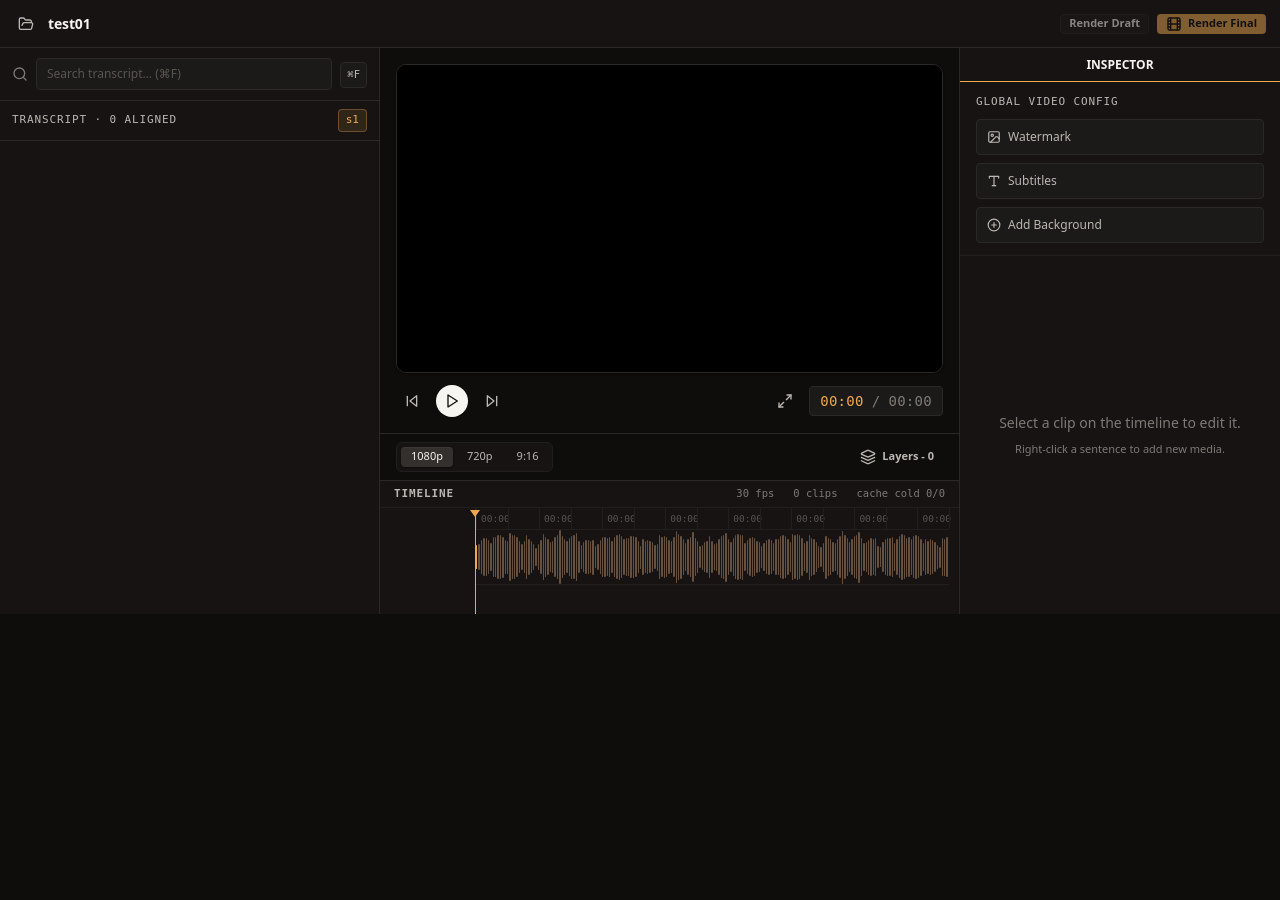
Test case: Cancel in subtitles modal closes without mutation
Expected: the heading "test01" is shown, top-left (48, 13), bottom-right (91, 34)
Click the button "Subtitles" at (1032, 180), box top-left (976, 162), bottom-right (1264, 198)
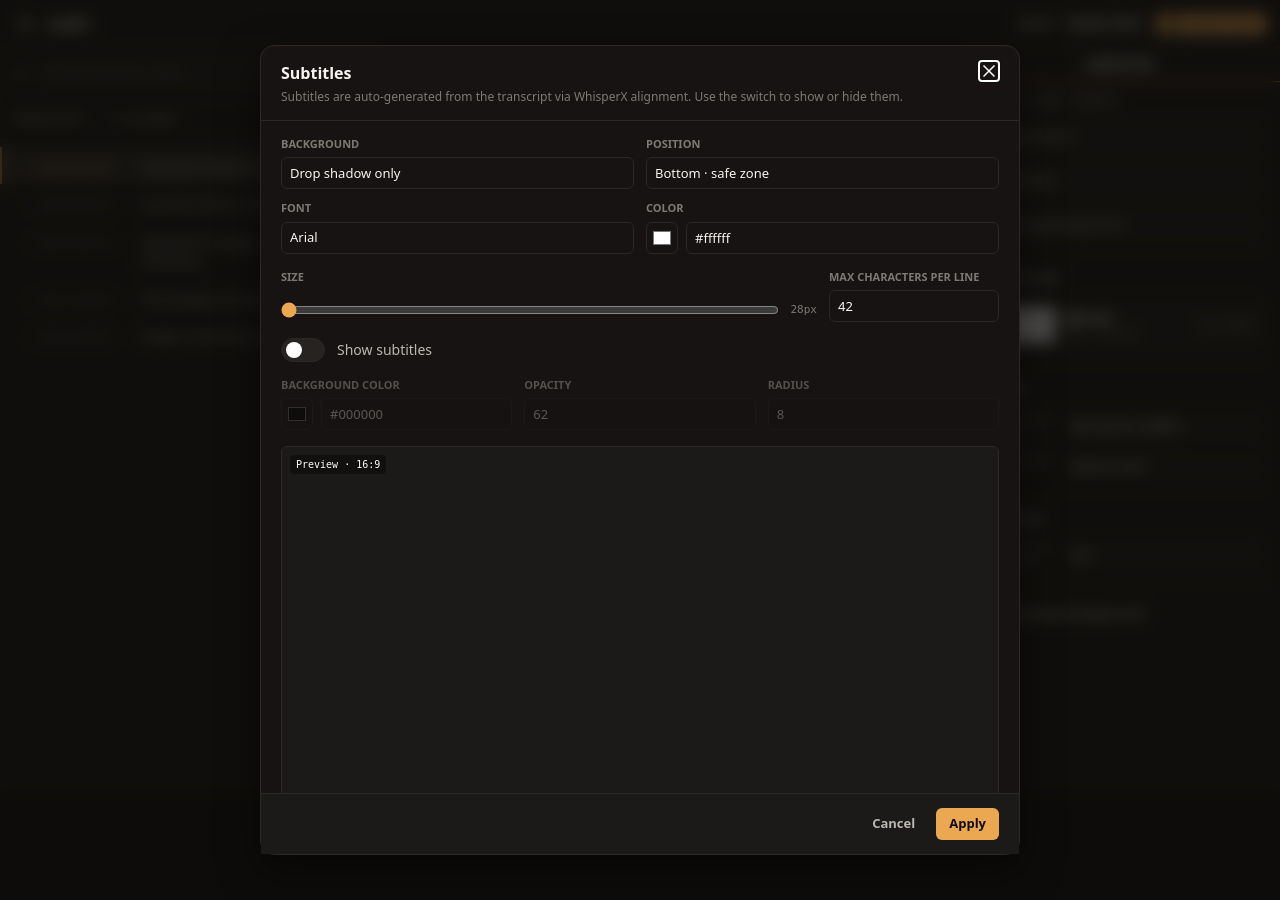
Select "SF Pro" in the dropdown labelled "Font" at (458, 238), box top-left (281, 222), bottom-right (634, 254)
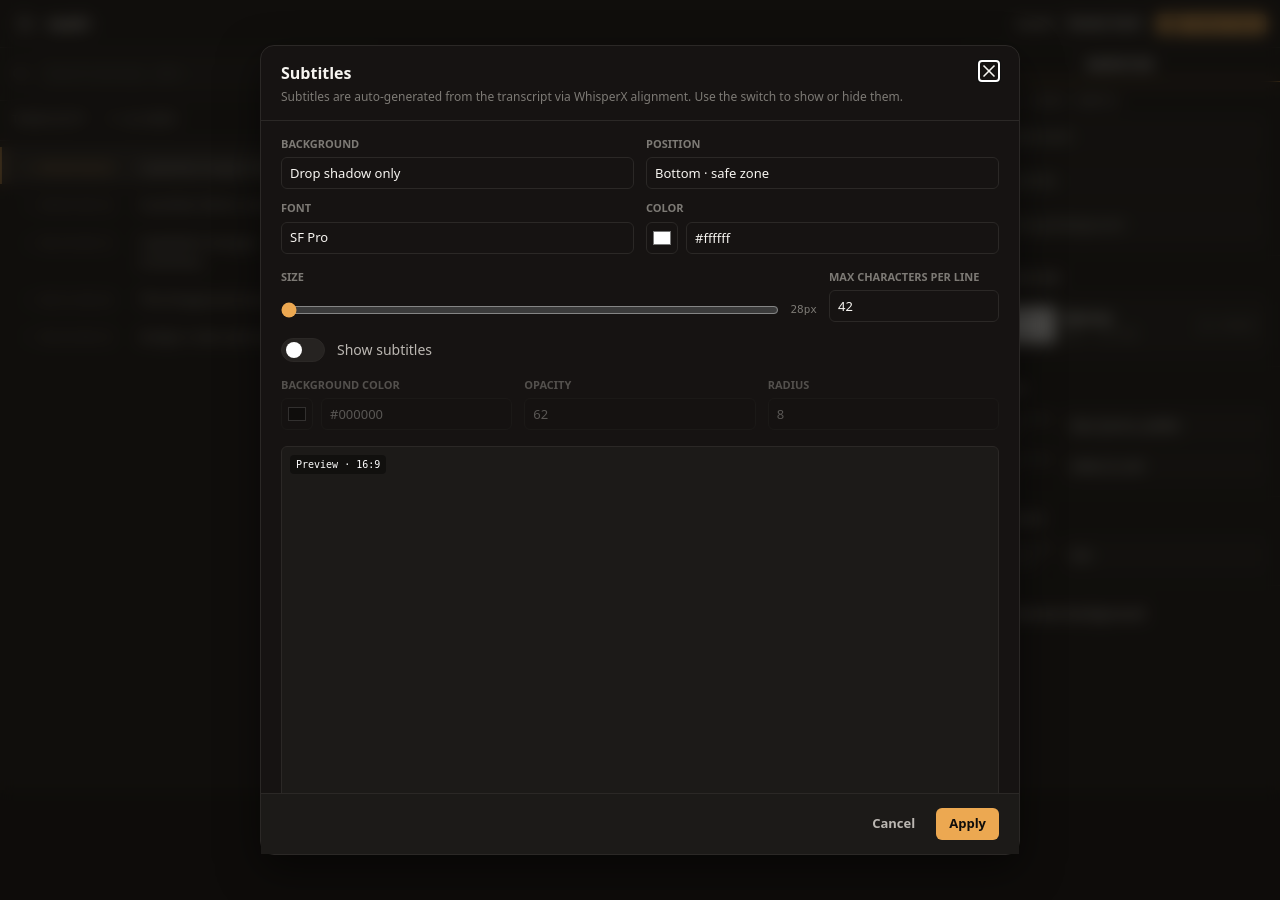
Replace the text in the field labelled "Max characters per line" with "20" at (914, 306), box top-left (829, 290), bottom-right (999, 322)
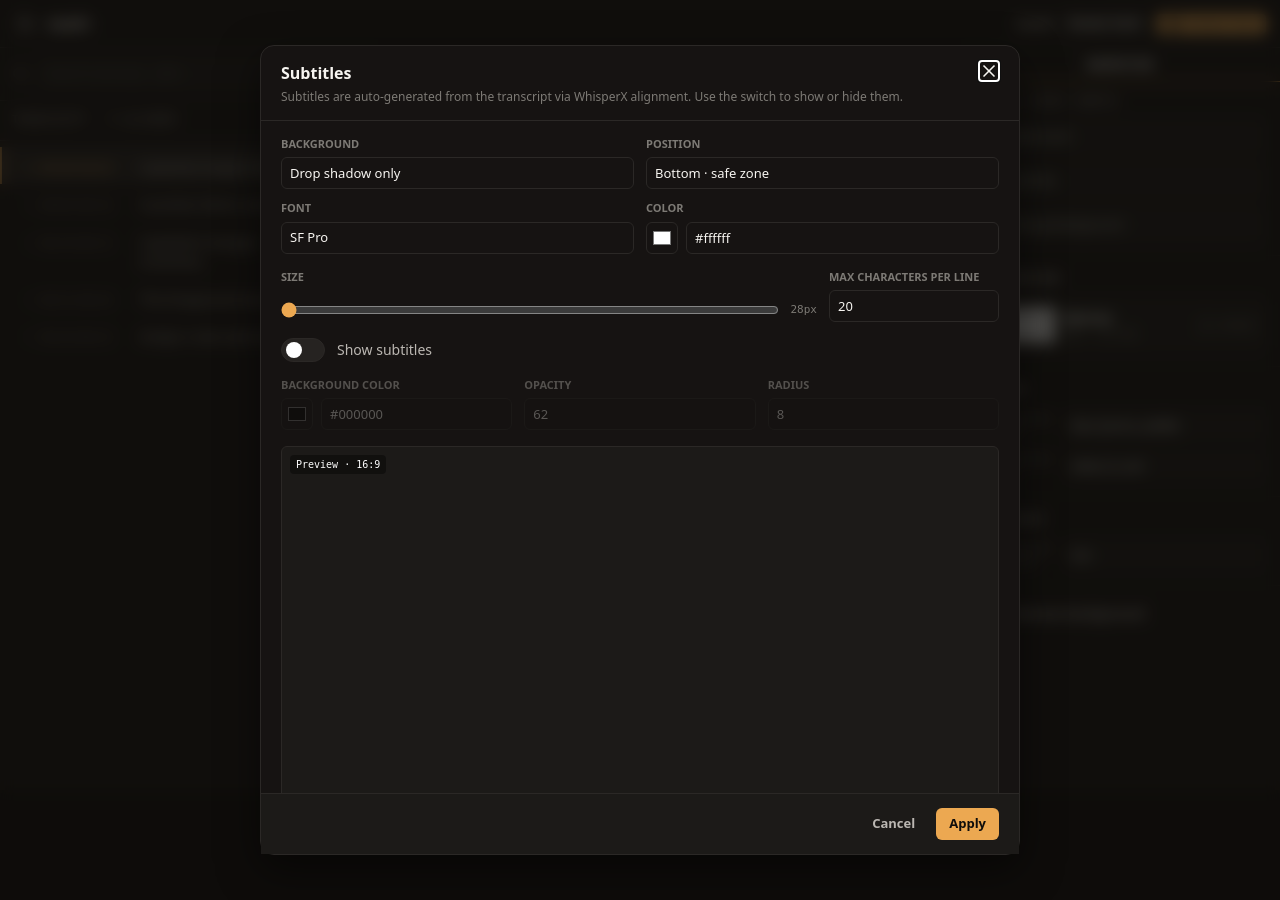
Click the button "Cancel" at (894, 824), box top-left (859, 808), bottom-right (928, 840)
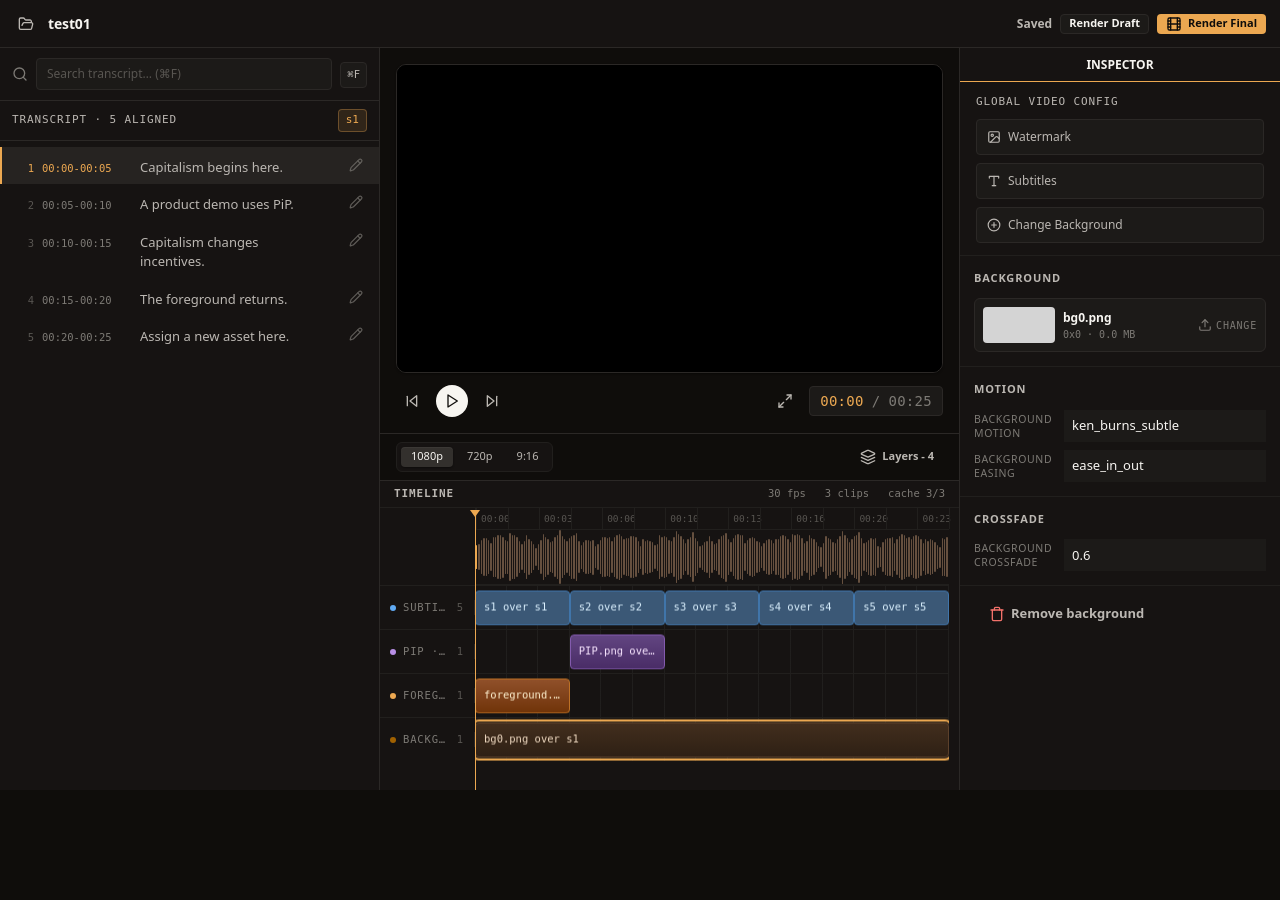
Now the dialog is gone
Click the button "Subtitles" at (1032, 180), box top-left (976, 162), bottom-right (1264, 198)
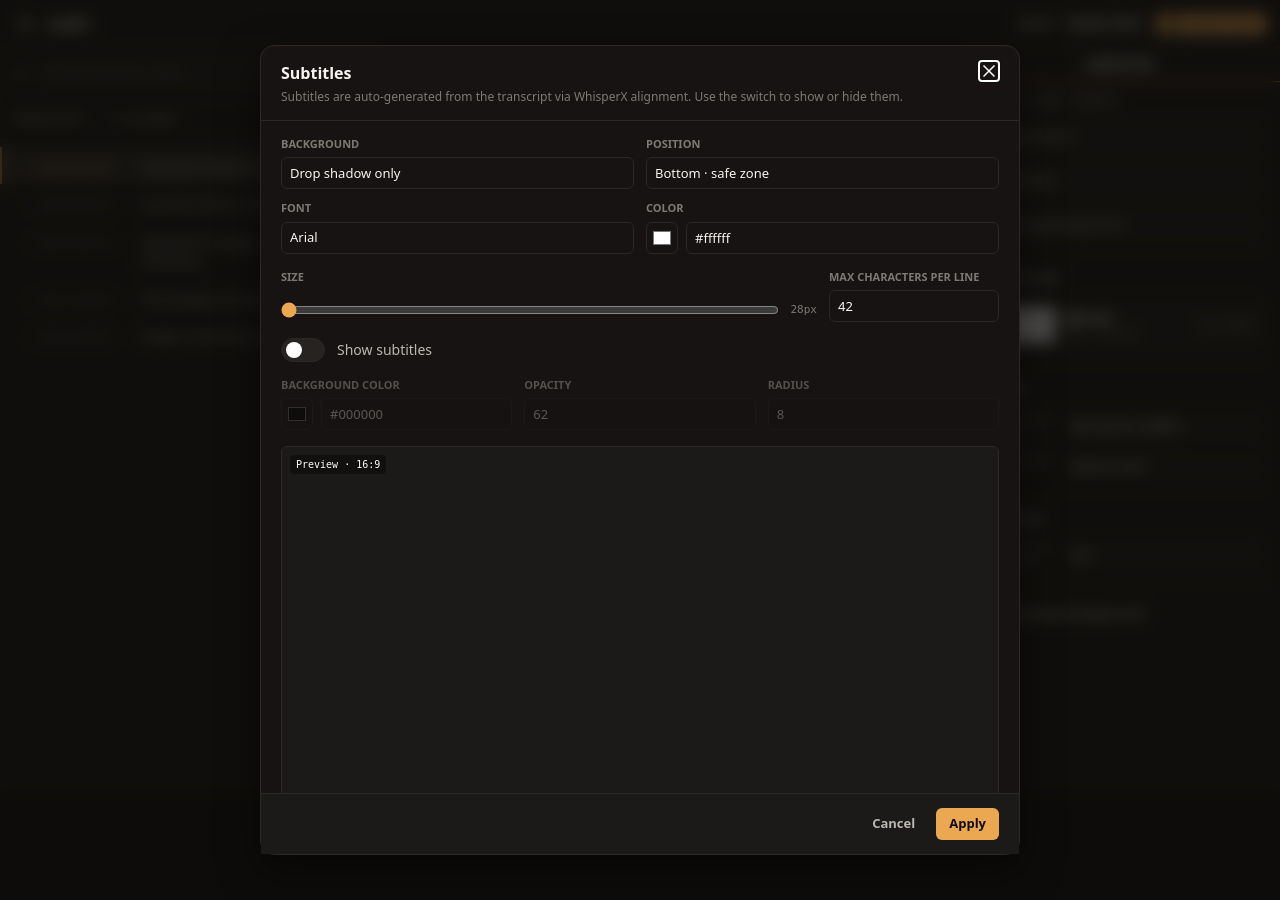
Now the field labelled "Max characters per line" holds "42", box top-left (829, 290), bottom-right (999, 322)
